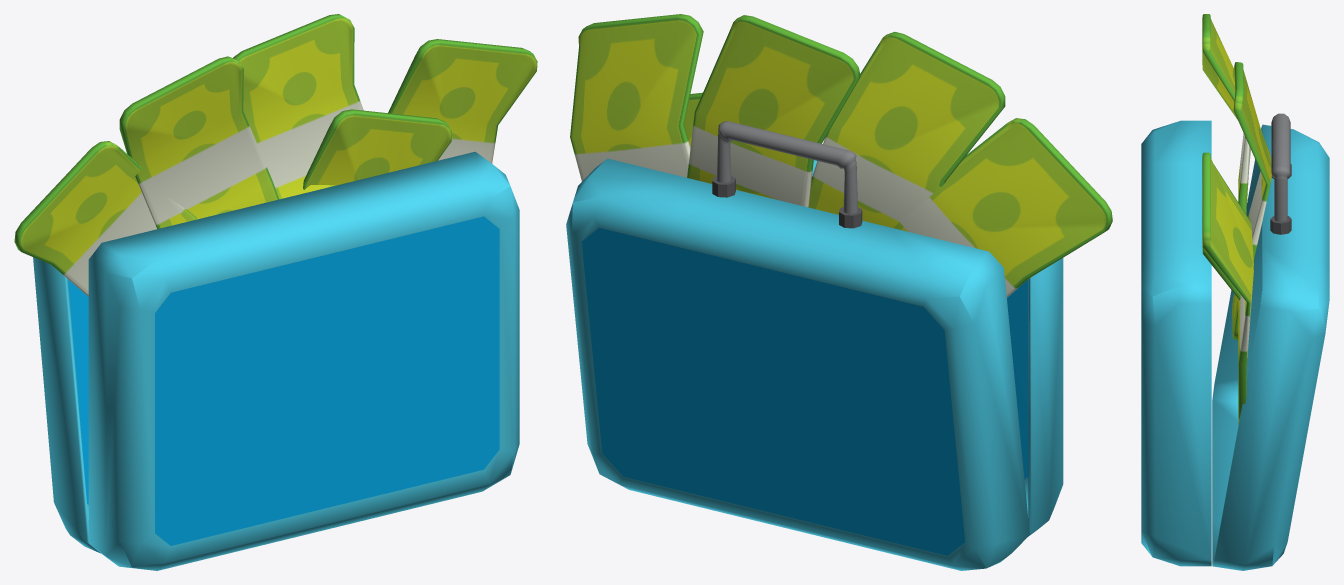
Rendered from bag.fbx.
The picture shows the model from 3 angles, left to right: view 1: azimuth 30°, elevation 25°; view 2: azimuth 150°, elevation 25°; view 3: azimuth 270°, elevation 25°; orthographic projection. The views are drawn at different scales.
Parts seen in each view (by area): view 1: bag2; view 2: bag2; view 3: bag2.
Boxes of the visible parts, left/top/right/bottom form: bag2: left=14, top=14, right=537, bottom=570; bag2: left=566, top=14, right=1112, bottom=570; bag2: left=1141, top=14, right=1329, bottom=570.
Size of the model in its own units: 106 by 92.93 by 36.77.
Materials: 2 (2 with a texture image).
